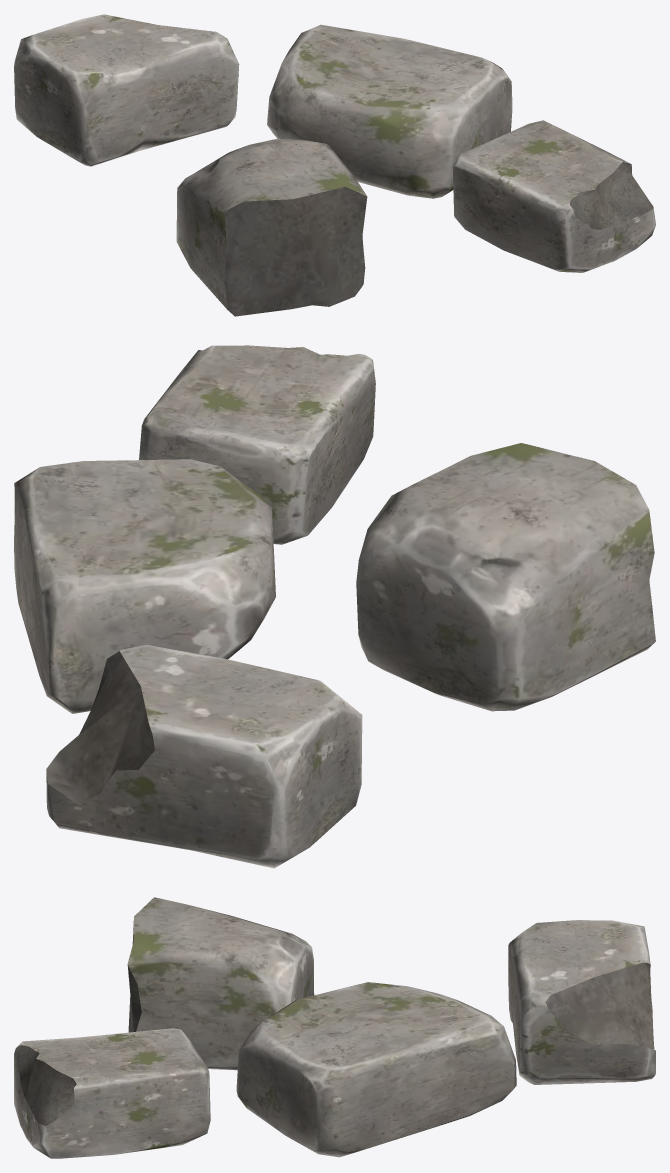
3 renders of one model, top to bottom at view 1: azimuth 30°, elevation 25°; view 2: azimuth 150°, elevation 25°; view 3: azimuth 270°, elevation 25°, orthographic. The views are drawn at different scales.
Parts seen in each view (by area): view 1: SM_Castle_Floor_Stones_01_Dmg_v2_LOD0; view 2: SM_Castle_Floor_Stones_01_Dmg_v2_LOD0; view 3: SM_Castle_Floor_Stones_01_Dmg_v2_LOD0.
Boxes of the visible parts, x1,y1,x2,y2 form: SM_Castle_Floor_Stones_01_Dmg_v2_LOD0: (14,14,655,316); SM_Castle_Floor_Stones_01_Dmg_v2_LOD0: (14,345,655,868); SM_Castle_Floor_Stones_01_Dmg_v2_LOD0: (14,897,655,1158).
Bounding box in the file's own units: 1.82 × 0.5294 × 2.68.
Materials: 2 (2 with a texture image).
